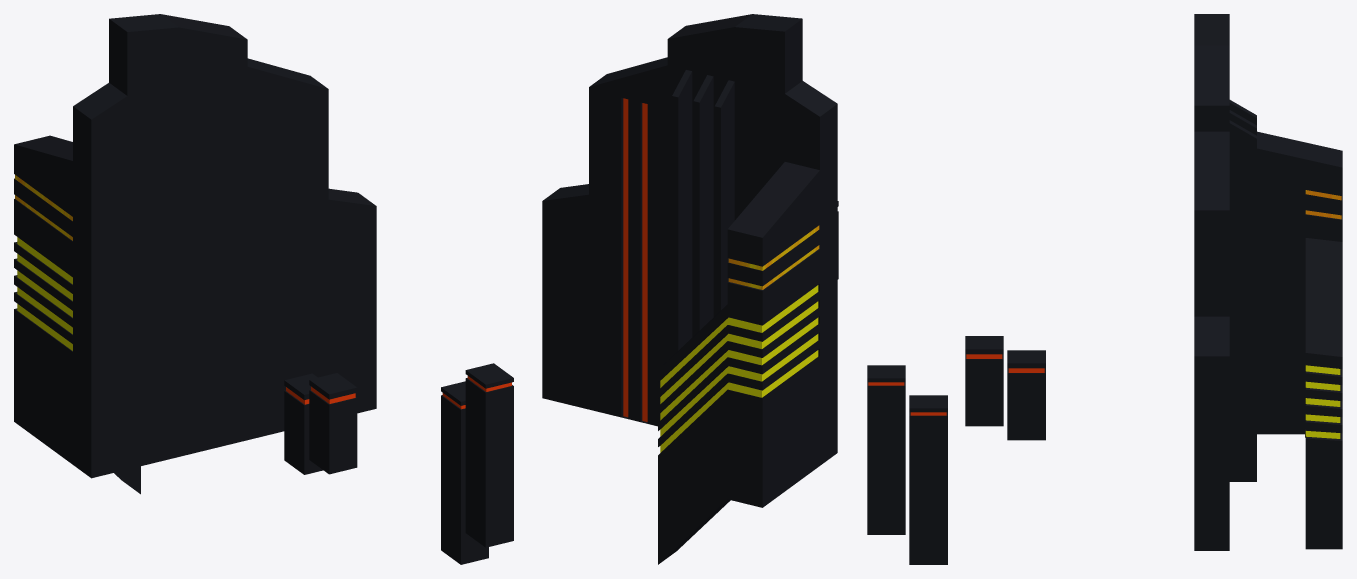
File: test_decor_4.fbx
3 views of the same model, side by side, from view 1: azimuth 30°, elevation 25°; view 2: azimuth 150°, elevation 25°; view 3: azimuth 270°, elevation 25° (orthographic). The views are drawn at different scales.
Parts seen in each view (by area): view 1: Cube.038, Cube.028, Cube.030; view 2: Cube.038; view 3: Cube.038, Cube.028, Cube.030.
Part boxes in pixels (x1,y1,x2,y2): Cube.038: (14, 14, 376, 494); Cube.028: (441, 363, 513, 564); Cube.030: (284, 373, 357, 474); Cube.038: (542, 14, 837, 564); Cube.038: (1194, 14, 1342, 550); Cube.028: (867, 365, 947, 564); Cube.030: (965, 336, 1045, 440).
Size of the model in its own units: 3982 by 6969 by 5988.
